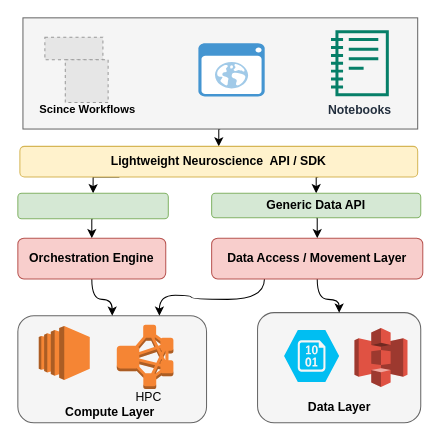
Some shapes in this 441 by 446 pixel diagram are drawn without their labels. Grey dashed boxes stand in for pictures. The shapes that lost their labels are listed below. From the top down, each one's box as (x1, y1, x2, y2) in pixels, then its label:
(198, 43, 264, 96): User Interfaces
(17, 192, 168, 219): Generic Compute API
(38, 325, 90, 380): EC2
